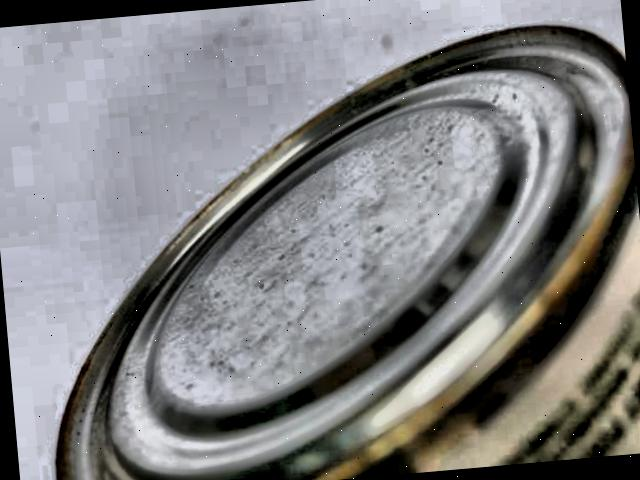Almennt: (13, 7, 640, 480)
